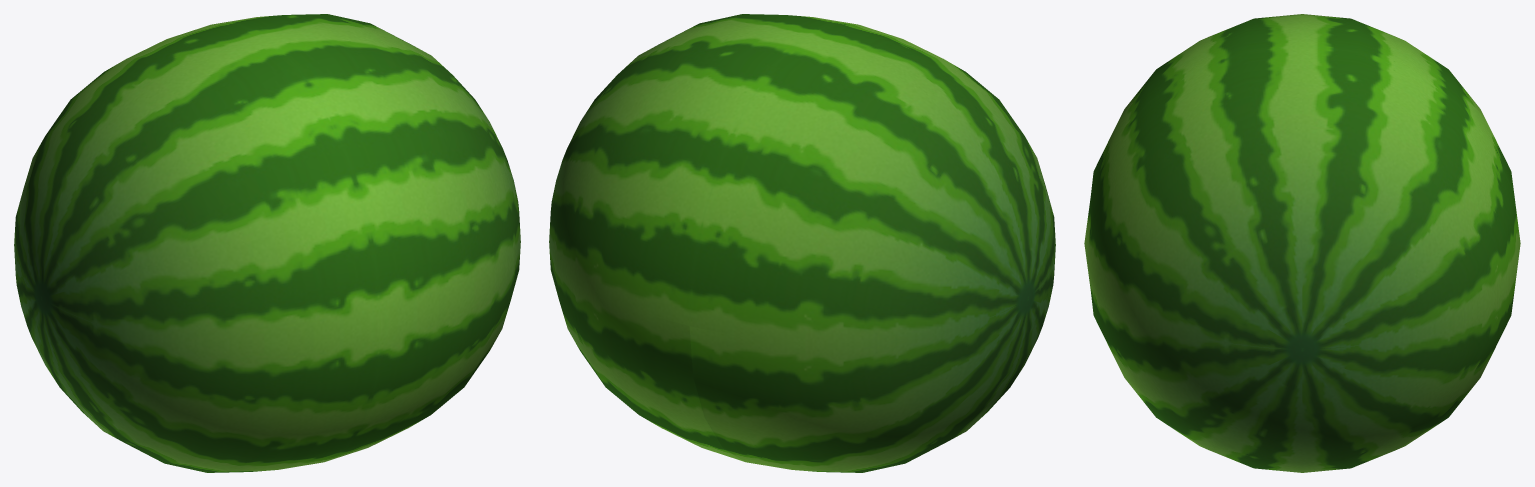
The model's file is watermelon.FBX.
The picture shows the model from 3 angles, left to right: view 1: azimuth 30°, elevation 25°; view 2: azimuth 150°, elevation 25°; view 3: azimuth 270°, elevation 25°; orthographic projection. The views are drawn at different scales.
Parts seen in each view (by area): view 1: watermelon, polySurface009, polySurface8; view 2: watermelon, polySurface009, polySurface8; view 3: watermelon, polySurface8.
Boxes of the visible parts, x1=… form: watermelon: x1=14, y1=14, x2=520, y2=345; polySurface009: x1=14, y1=250, x2=380, y2=472; polySurface8: x1=325, y1=242, x2=520, y2=461; watermelon: x1=549, y1=14, x2=1055, y2=345; polySurface009: x1=689, y1=250, x2=1055, y2=472; polySurface8: x1=549, y1=242, x2=744, y2=461; watermelon: x1=1084, y1=14, x2=1520, y2=349; polySurface8: x1=1084, y1=246, x2=1520, y2=472.
Bounding box in the file's own units: 1.99 × 1.72 × 1.72.
Materials: 1 (1 with a texture image).
